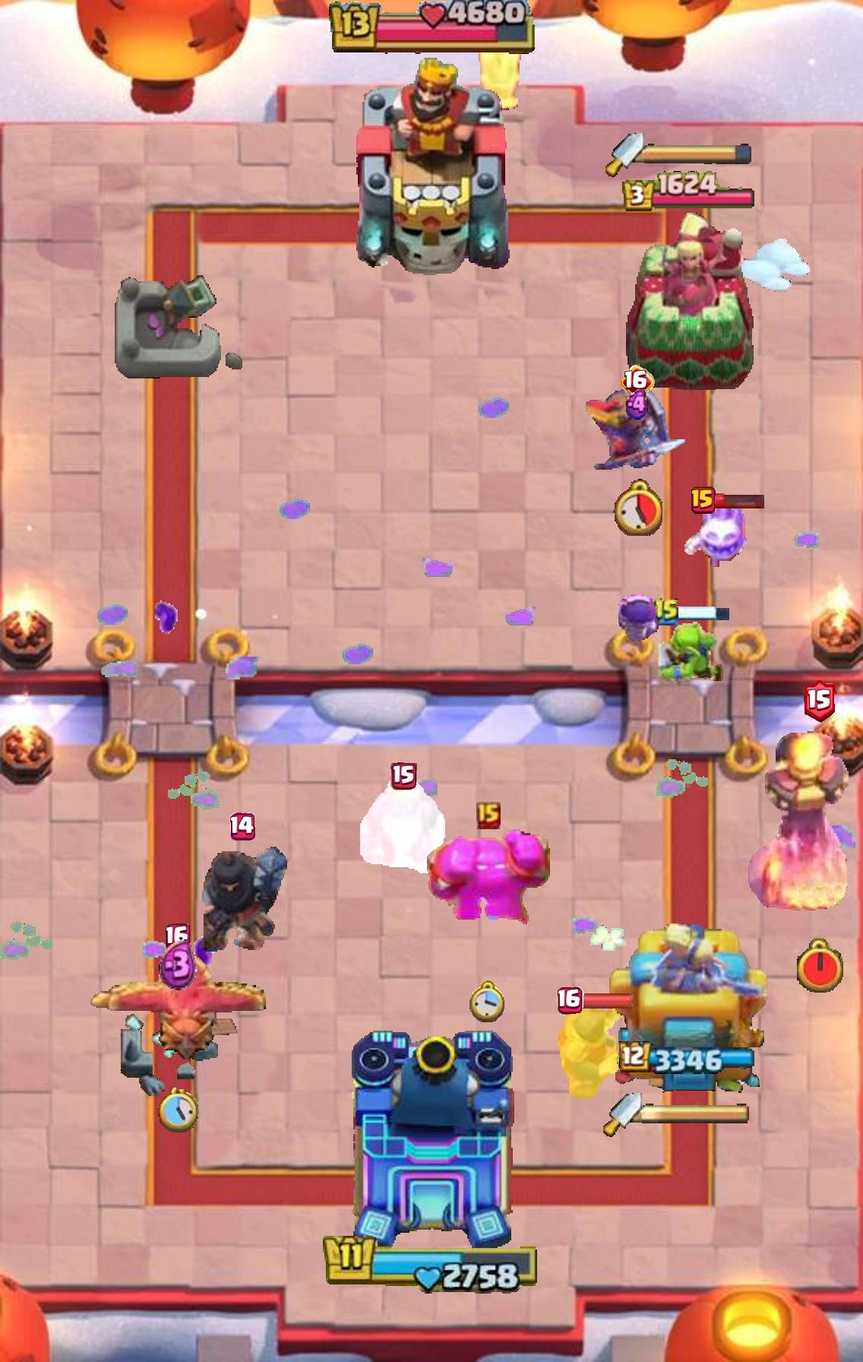elixir: (158, 939, 197, 991), (623, 389, 653, 420)
skeleton-evolution: (618, 594, 659, 645)
